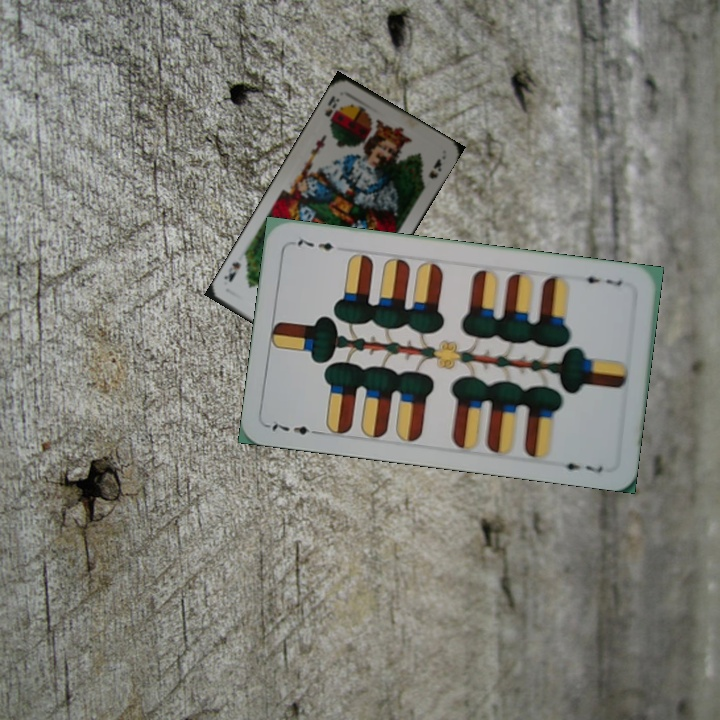E7: (265, 416, 324, 438), (576, 271, 625, 289)
SK: (321, 91, 342, 129)
